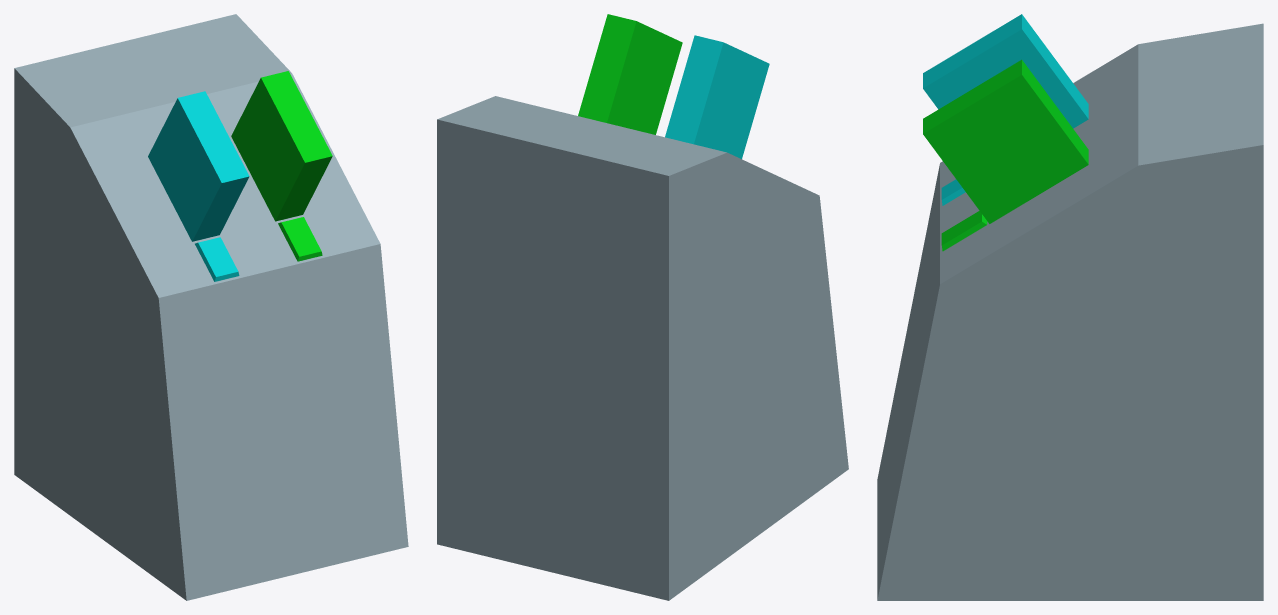
Rendered from keylogger.fbx.
The picture shows the model from 3 angles, left to right: view 1: azimuth 30°, elevation 25°; view 2: azimuth 150°, elevation 25°; view 3: azimuth 270°, elevation 25°; orthographic projection. The views are drawn at different scales.
Visible parts, largest first — view 1: BaseCard, BlueCard, GreenCard; view 2: BaseCard, BlueCard, GreenCard; view 3: BaseCard, GreenCard, BlueCard.
Part boxes in pixels (x1,y1,x2,y2): BaseCard: (14, 14, 408, 600); BlueCard: (148, 91, 249, 241); GreenCard: (231, 71, 332, 221); BaseCard: (437, 96, 848, 600); BlueCard: (665, 35, 769, 158); GreenCard: (578, 14, 682, 134); BaseCard: (877, 23, 1263, 600); GreenCard: (923, 59, 1088, 223); BlueCard: (923, 14, 1088, 128).
Size of the model in its own units: 149 by 283 by 200.
